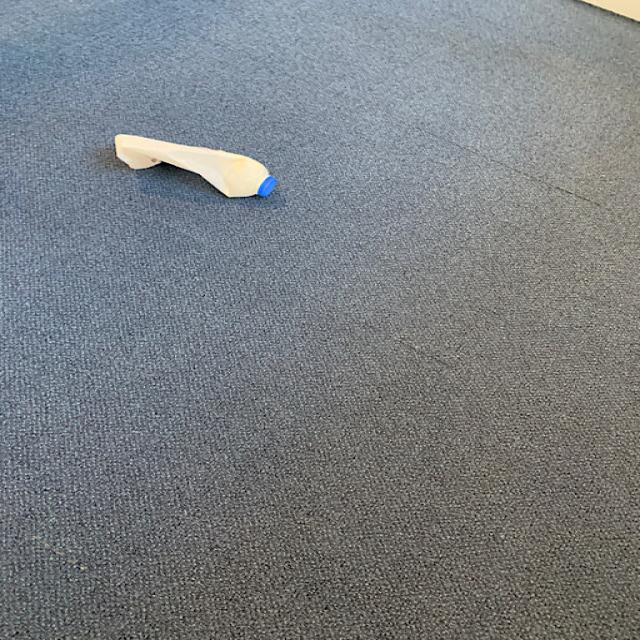litter: (112, 134, 282, 203)
